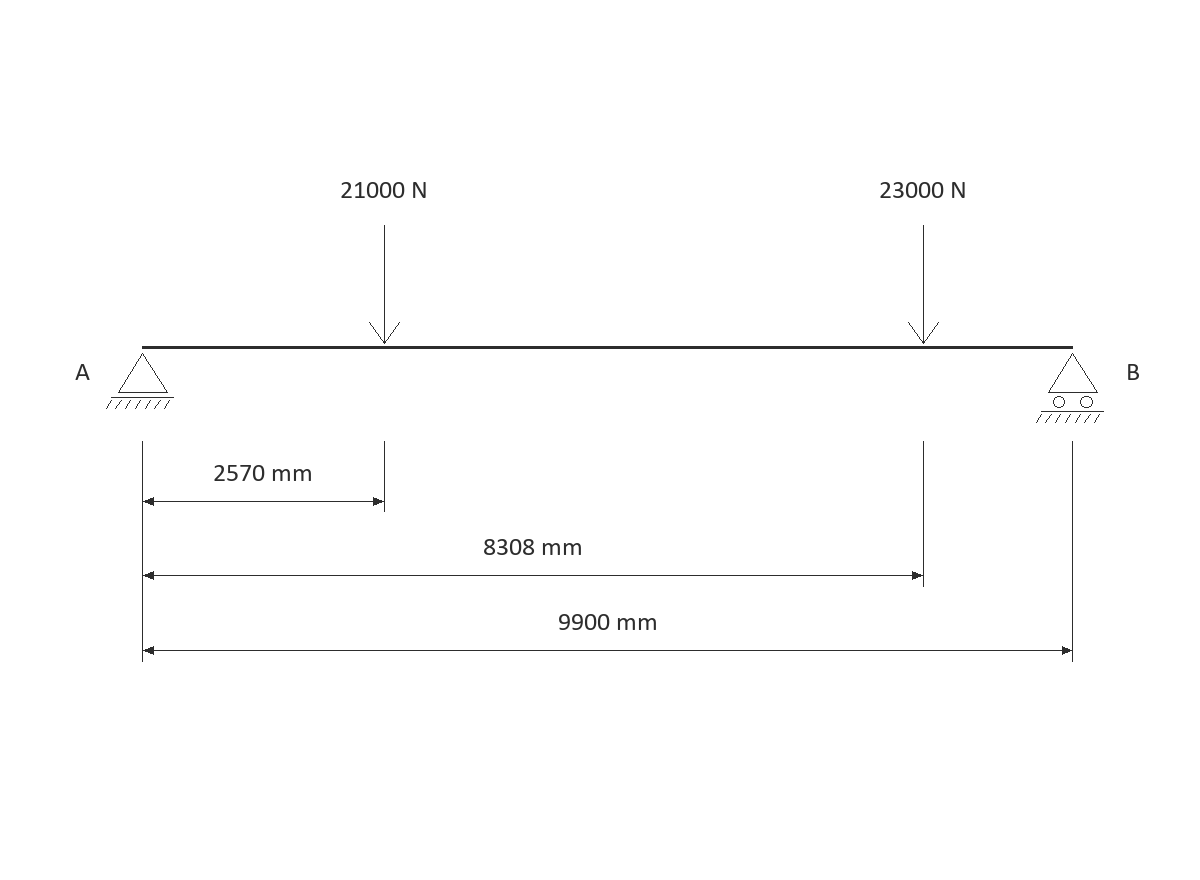pin_support: (106, 353, 174, 409)
point_load: (369, 225, 400, 344), (908, 225, 939, 344)
roller_support: (1036, 353, 1104, 423)
